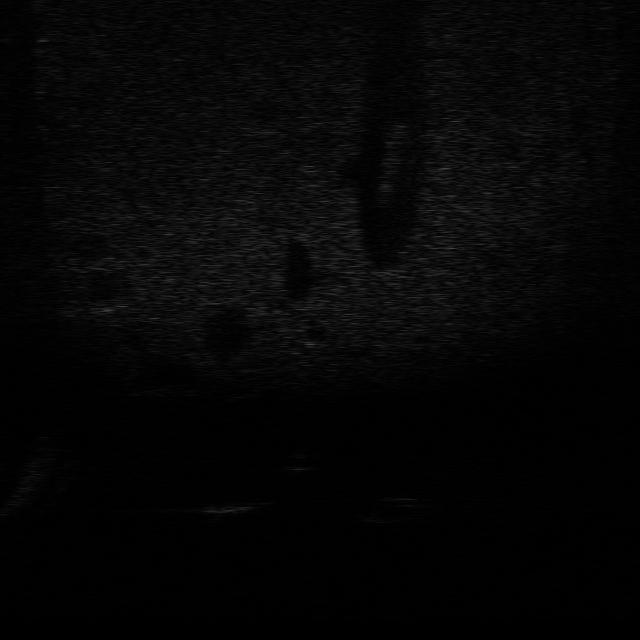ball: (270, 444, 320, 476)
square cage: (194, 491, 268, 525)
tyre: (358, 490, 427, 531)
